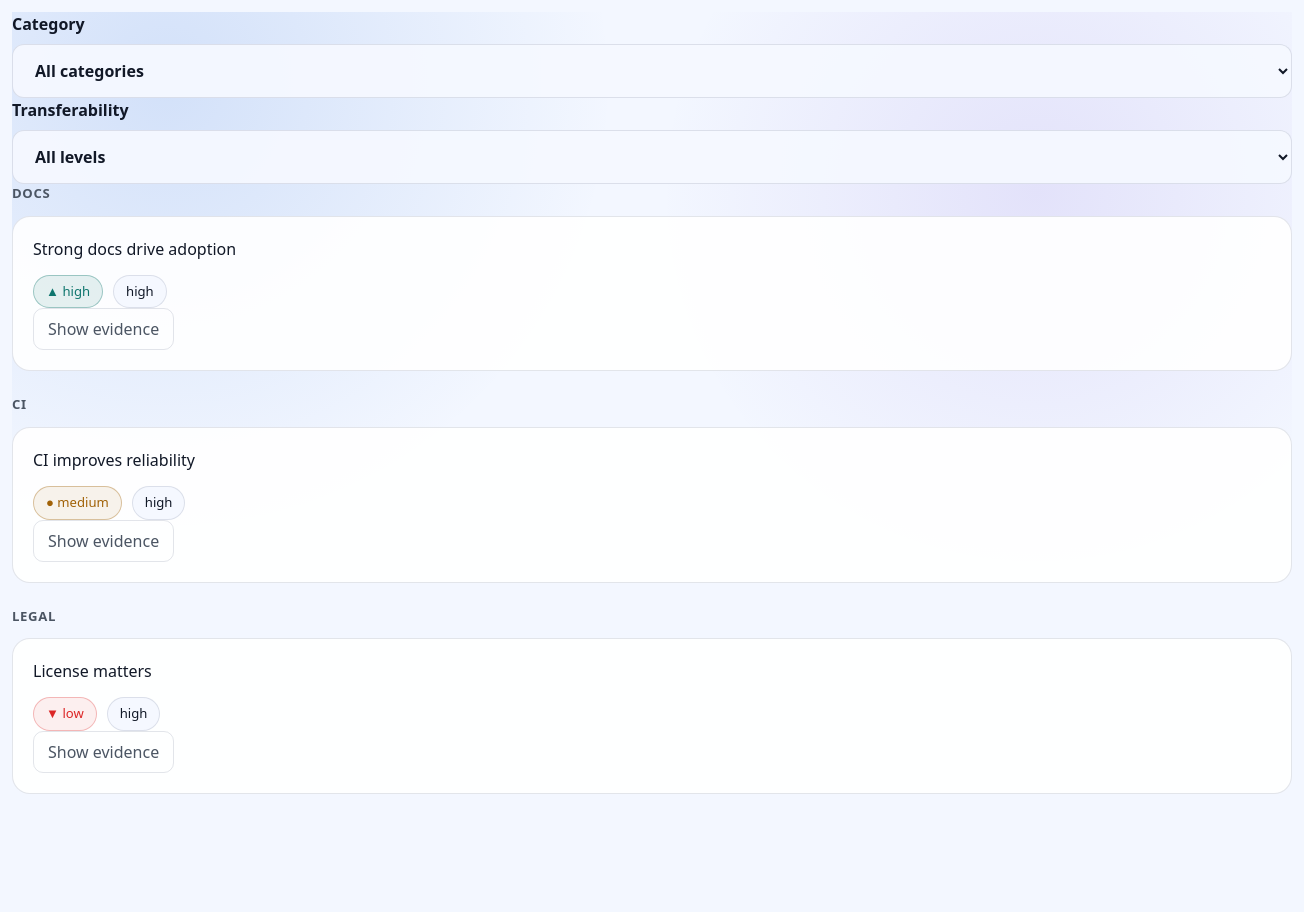
Test case: HypothesisCards › filtering by transferability (Requirement 17.2) › filters to show only low transferability
This screenshot has width=1304, height=912.
Select "▼ low" in the dropdown labelled "Transferability": (652, 157) [12, 130, 1292, 184]
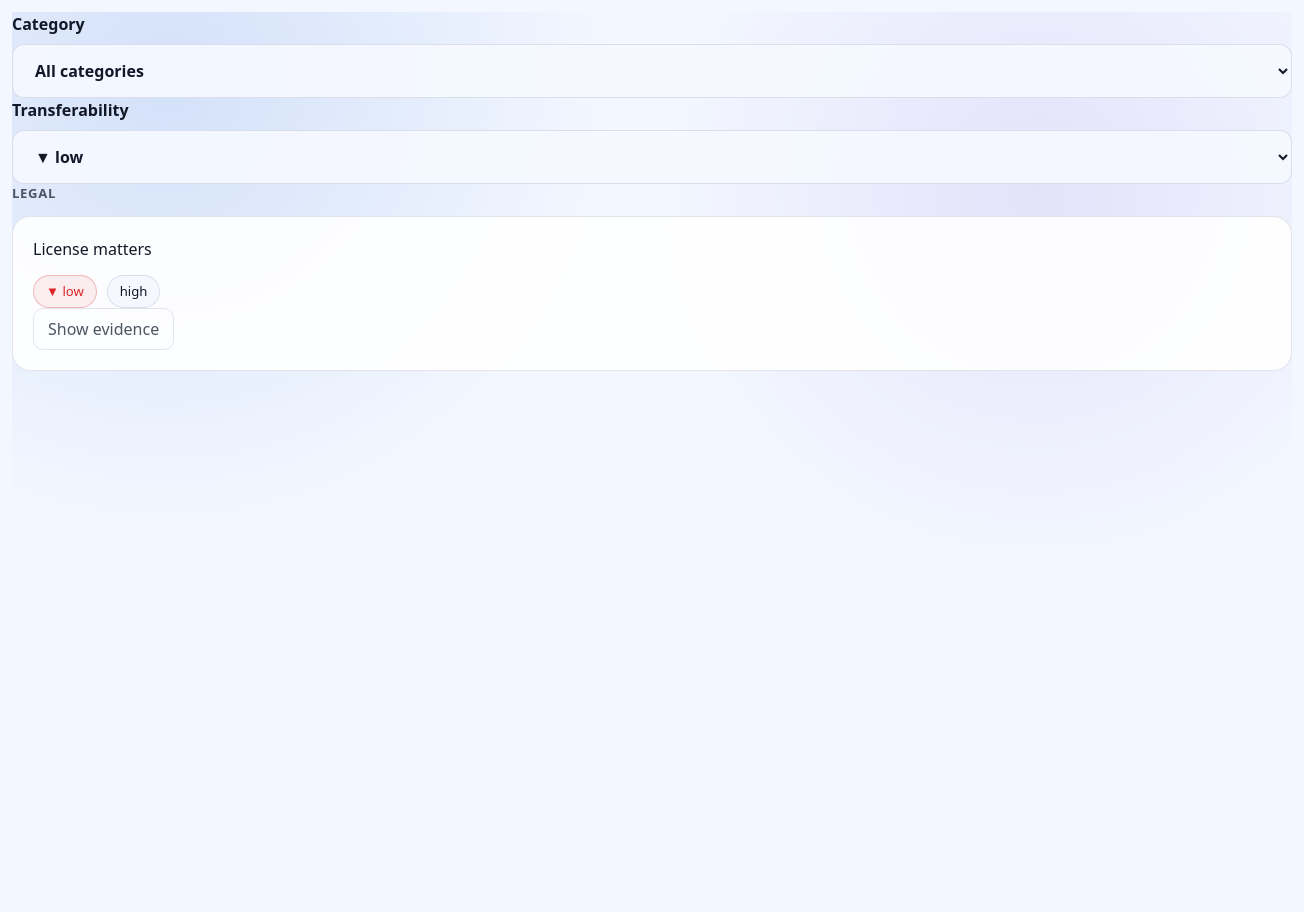
Expected: the heading "License matters" is shown, [33, 237, 152, 261]
Expected: the heading "Strong docs drive adoption" is gone
